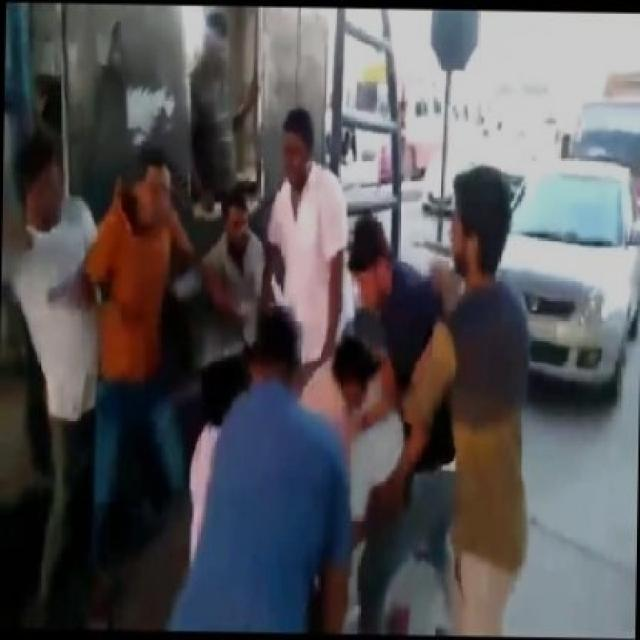non-fight: (162, 302, 358, 640), (395, 158, 531, 640), (75, 142, 200, 596), (0, 131, 109, 628), (262, 106, 351, 400), (174, 182, 267, 428)
